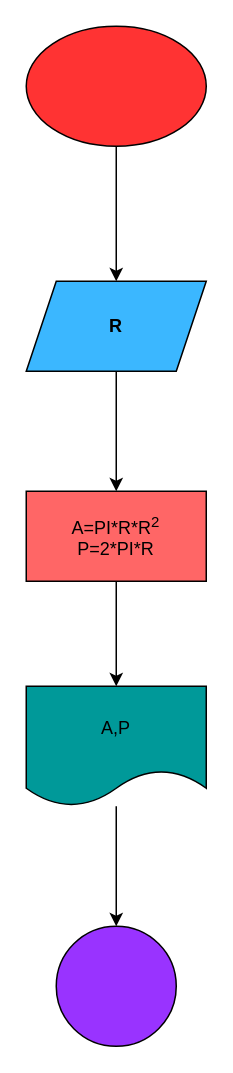
Some shapes in this 233 by 1073 pixel diagram are drawn without their labels. The box of each missing label's shape, as (x1, y1, x2, y2) in pixels:
FIN: (55, 925, 176, 1046)
INICIO: (25, 25, 206, 146)
